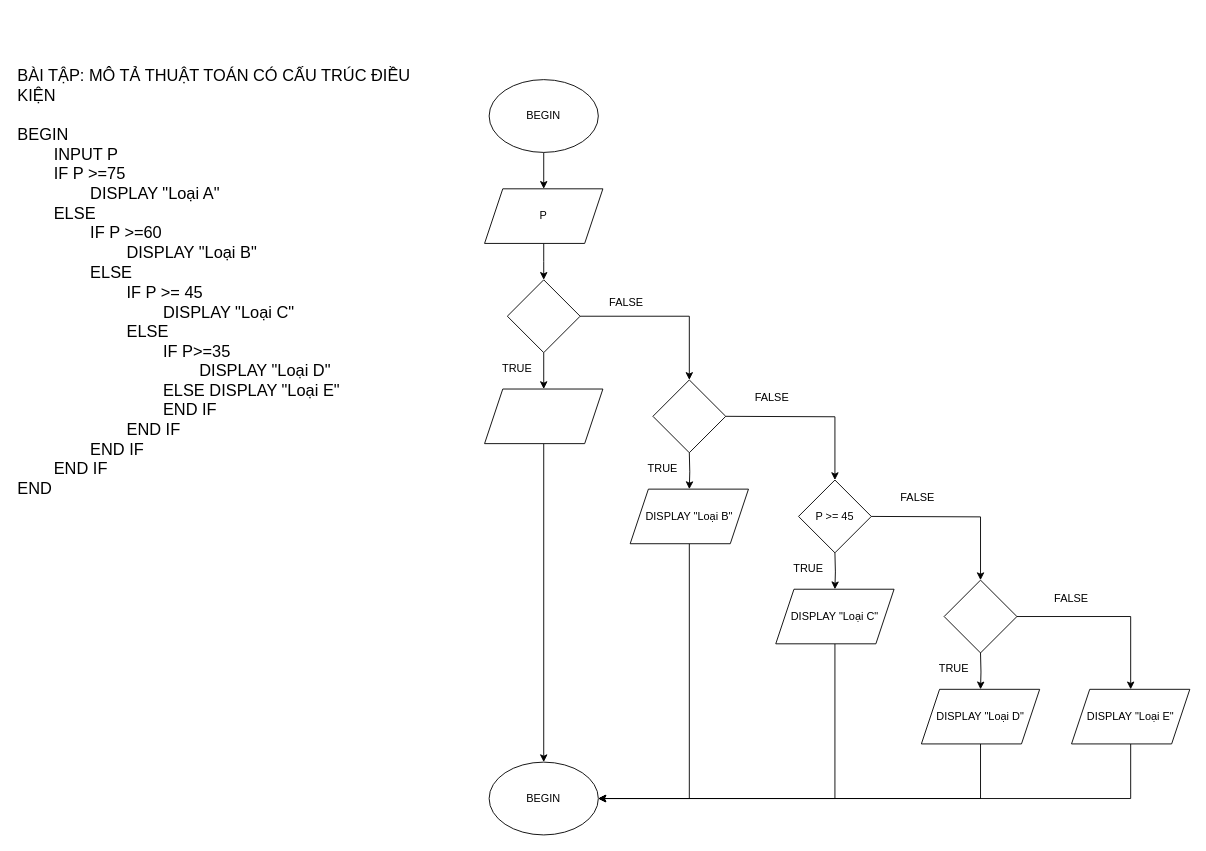
The diagram is 1206 pixels wide and 851 high, and some of its shapes have lost their labels. Each missing label, with the box of its shape:
DISPLAY "Loại A": (484, 388, 603, 444)
P >= 35: (943, 579, 1017, 653)
P >= 60: (652, 379, 726, 453)
P >= 75: (506, 279, 580, 353)
